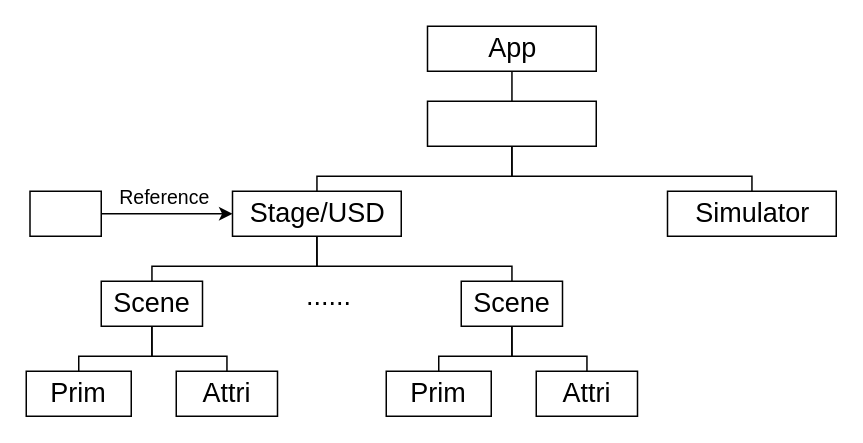
The diagram is 863 pixels wide and 443 high, and some of its shapes have lost their labels. The shapes that lost their labels are listed below. From the top down, each one's box as (x1, y1, x2, y2) in pixels, then its label:
(426, 100, 596, 146): World
(28, 190, 101, 236): USD
